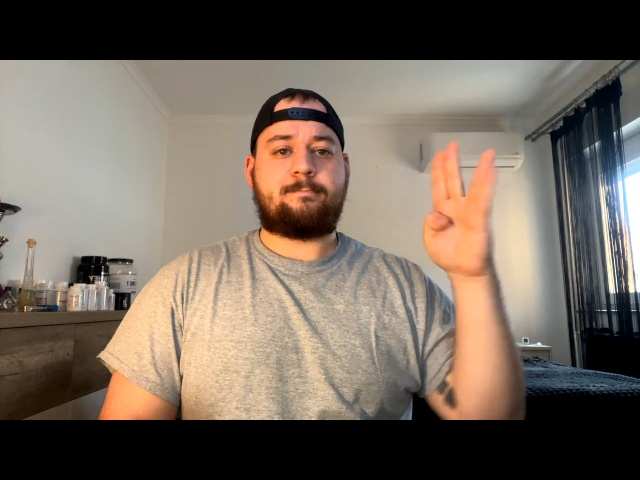LiveLong: (421, 141, 499, 272)
